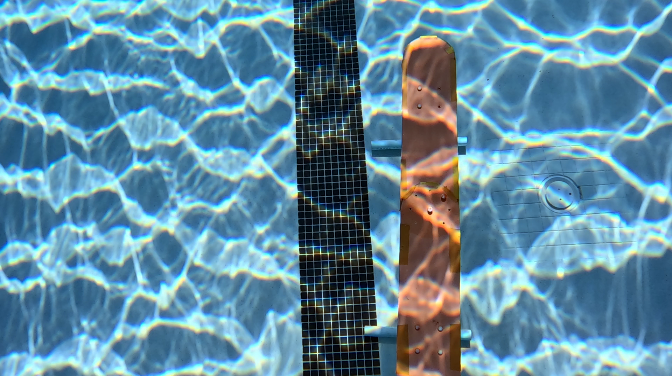pathmarker: (395, 34, 458, 375)
